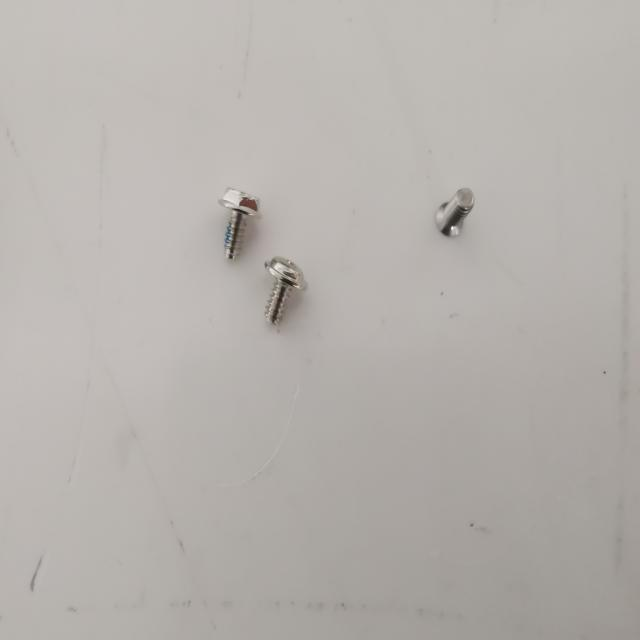Screw: (214, 180, 266, 270), (260, 253, 312, 333), (433, 183, 478, 245)
